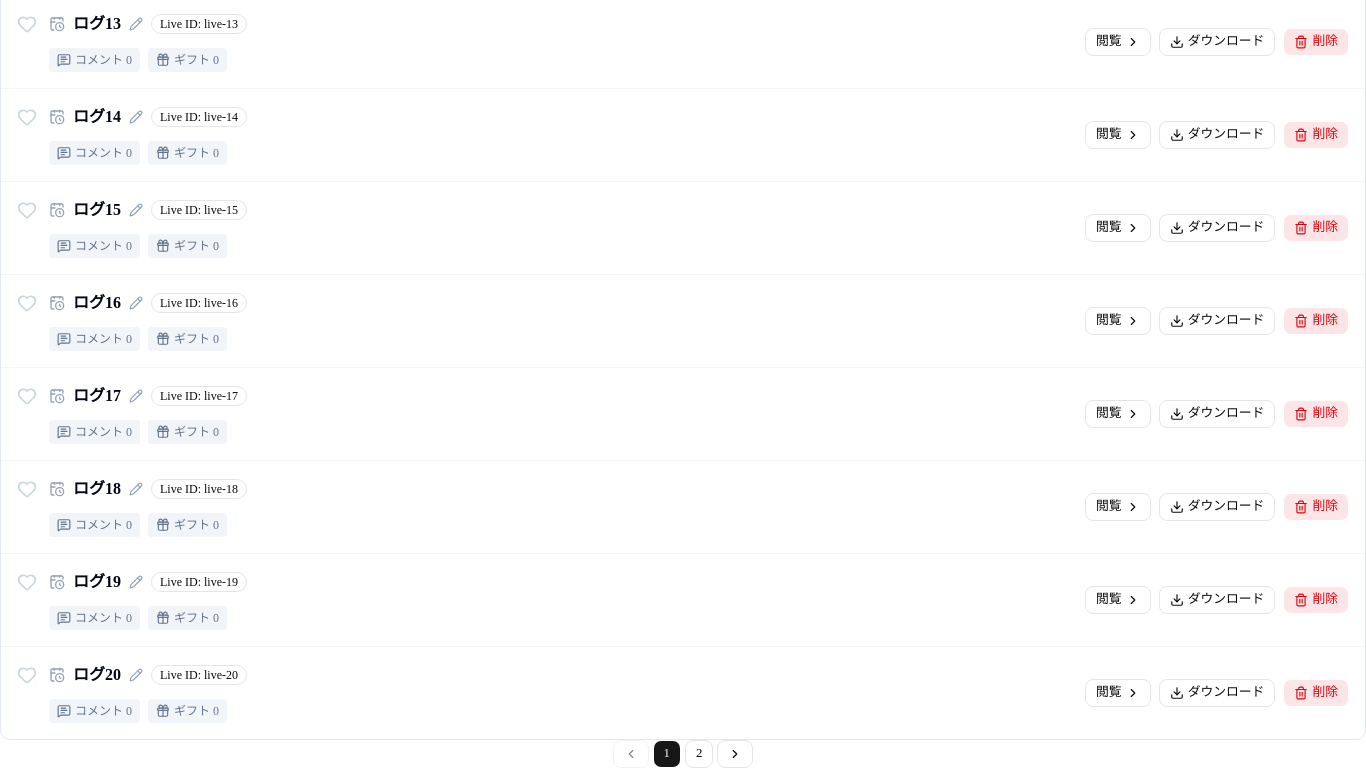
LogListPage › 21件のログがあるとき次のページへ移動できる
(page scrolled)
Expected: the text "ログ21" is not shown
Click the button named "次のページ" at (735, 754), box [717, 740, 753, 767]
(page scrolled)
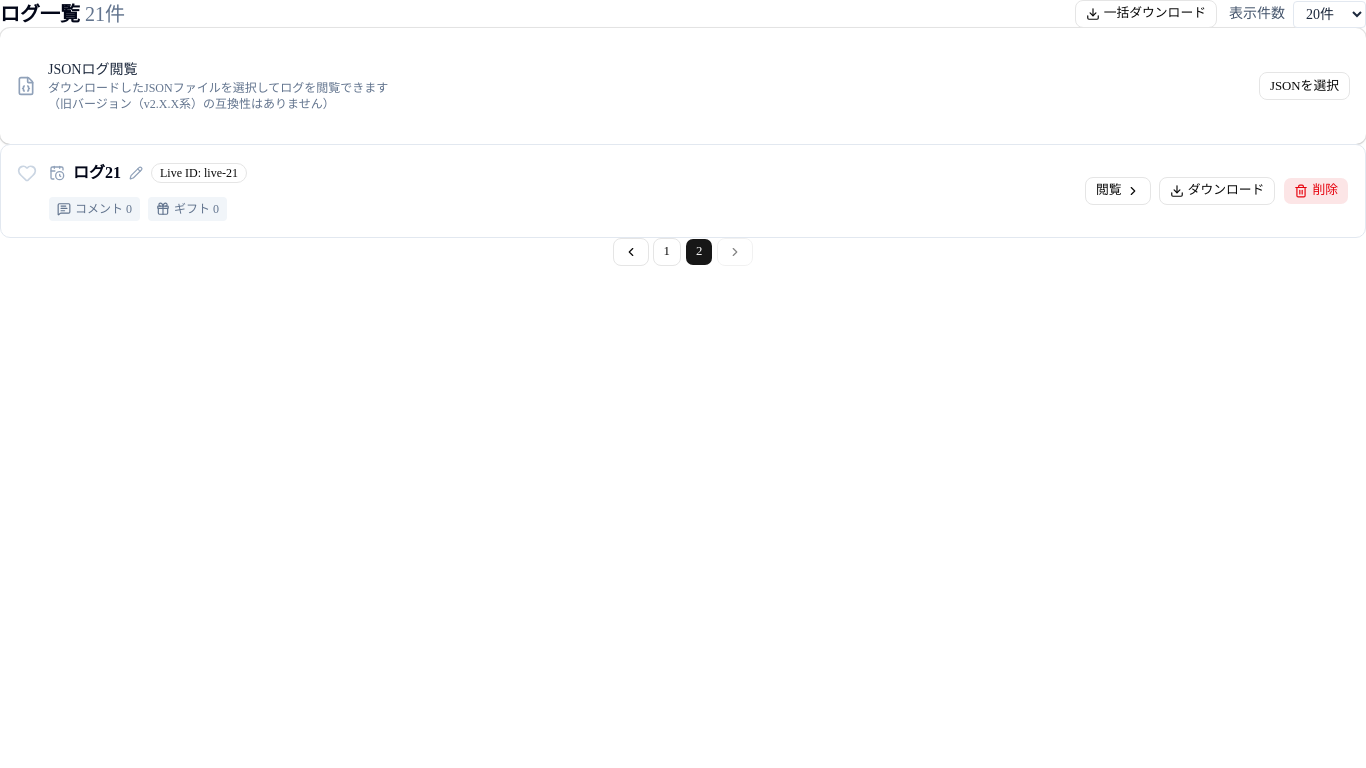
Expected: the text "ログ21" is shown, [73, 161, 121, 185]
Expected: the text "ログ1" is gone
